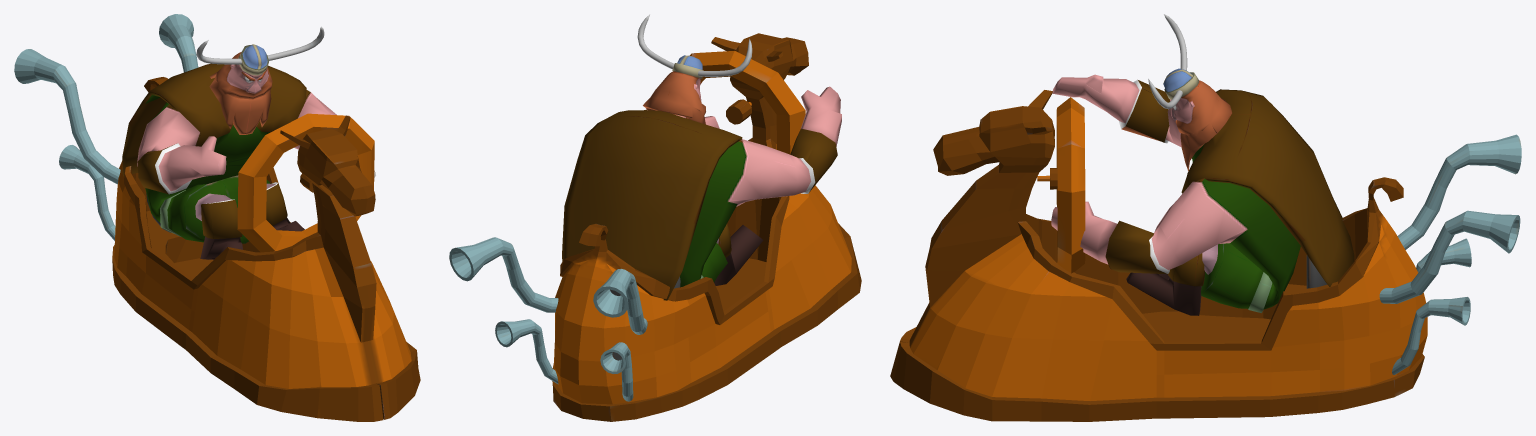
File: vikingoVacile_000476.obj
The picture shows the model from 3 angles, left to right: view 1: azimuth 30°, elevation 25°; view 2: azimuth 150°, elevation 25°; view 3: azimuth 270°, elevation 25°; orthographic projection. The views are drawn at different scales.
Visible parts, largest first — view 1: kartVikingo, Vikingo; view 2: kartVikingo, Vikingo; view 3: kartVikingo, Vikingo.
Part boxes in pixels (<box>): kartVikingo: <box>14,14,420,421</box>; Vikingo: <box>122,26,375,259</box>; kartVikingo: <box>449,33,861,421</box>; Vikingo: <box>562,14,841,300</box>; kartVikingo: <box>890,90,1521,421</box>; Vikingo: <box>1051,14,1354,315</box>.
Size of the model in its own units: 4.62 by 6.07 by 10.31.
Materials: 2 (2 with a texture image).
